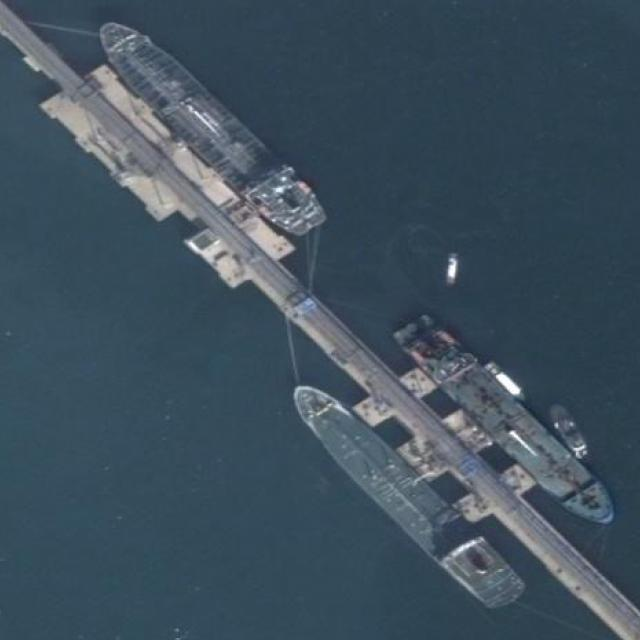Oil Tanker: (279, 371, 528, 620), (87, 8, 331, 246), (391, 306, 625, 536)
Other Ship: (546, 401, 593, 460), (482, 356, 531, 405)
